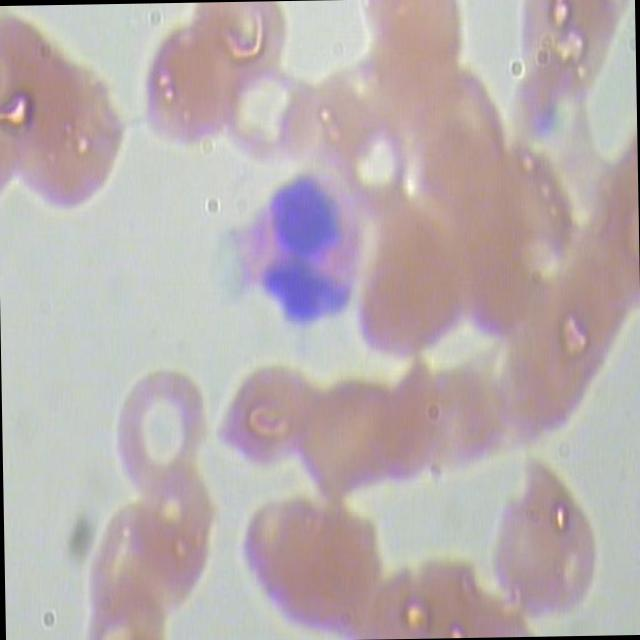RBC: (235, 492, 385, 640), (486, 453, 610, 622), (11, 64, 132, 216), (296, 366, 407, 509), (122, 471, 226, 621), (358, 243, 471, 369), (103, 370, 214, 497), (142, 33, 245, 156), (212, 359, 314, 482), (220, 70, 322, 176), (334, 113, 414, 225)
WBC: (228, 168, 367, 328)
